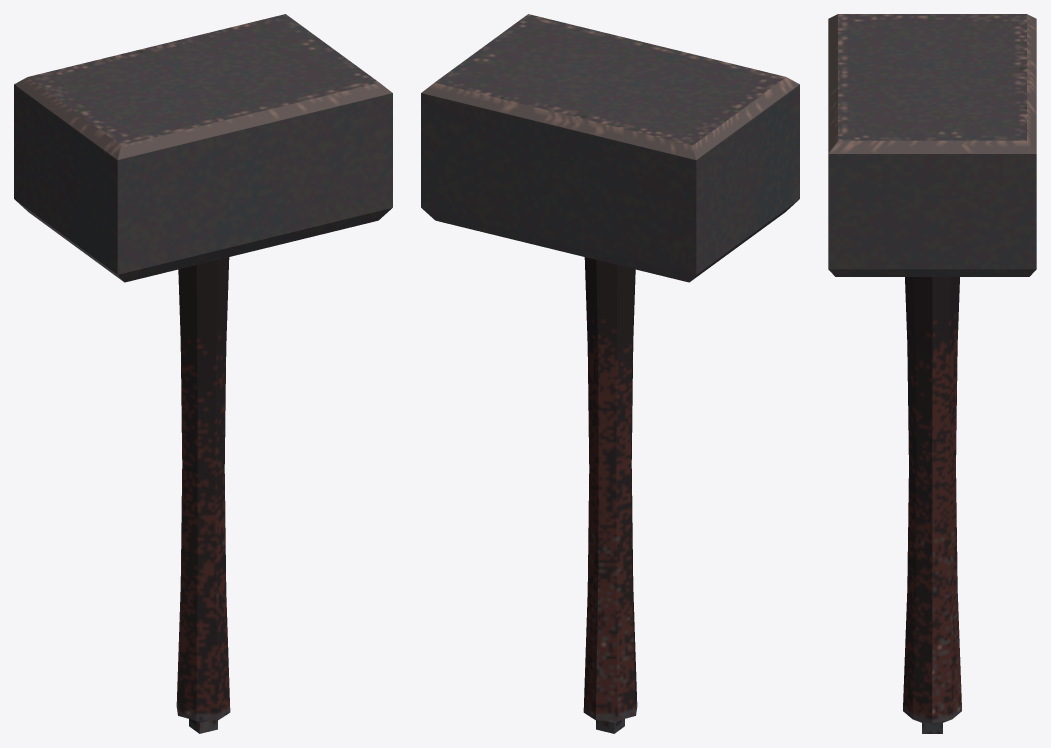
Rendered from hammer.obj.
3 views of the same model, side by side, from view 1: azimuth 30°, elevation 25°; view 2: azimuth 150°, elevation 25°; view 3: azimuth 270°, elevation 25° (orthographic).
Parts seen in each view (by area): view 1: Cube1; view 2: Cube1; view 3: Cube1.
Boxes of the visible parts, bbox=[...] form: Cube1: bbox=[14, 14, 392, 733]; Cube1: bbox=[421, 14, 799, 733]; Cube1: bbox=[828, 14, 1036, 733].
Bounding box in the file's own units: 11.44 × 25.74 × 7.46.
1 material, 1 textured.
